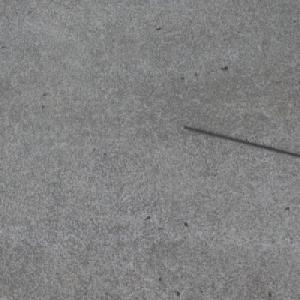LuggagePart: (181, 126, 300, 159)
